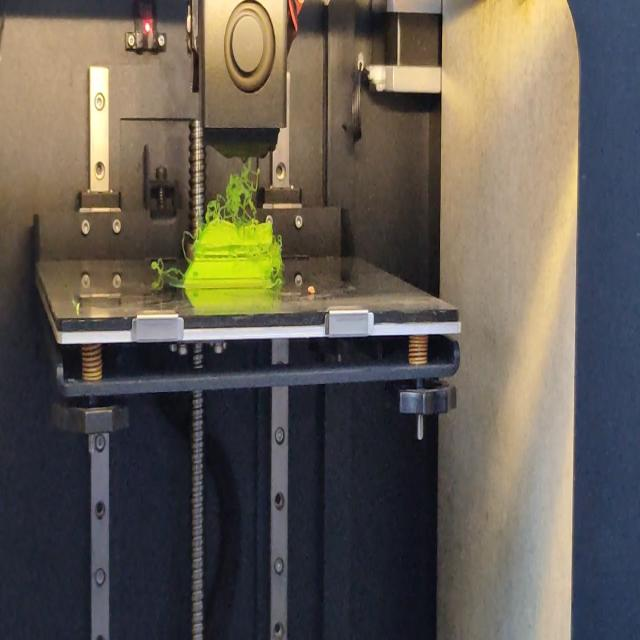spaghetti: (202, 157, 260, 223), (150, 260, 183, 278), (182, 226, 196, 262), (270, 276, 282, 288)
